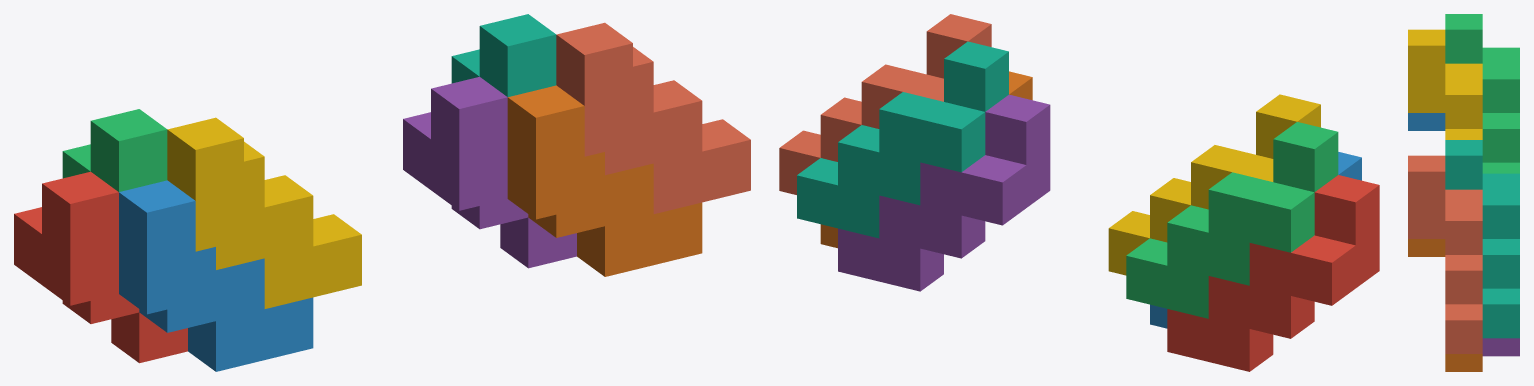
File: tiling.obj
3 renders of one model, left to right at view 1: azimuth 30°, elevation 25°; view 2: azimuth 150°, elevation 25°; view 3: azimuth 270°, elevation 25°, orthographic. The views are drawn at different scales.
Visible parts, largest first — view 1: copy_1_domain_6, copy_1_domain_2, copy_1_domain_8, copy_1_domain_4, copy_1_domain_1, copy_1_domain_5, copy_1_domain_7, copy_1_domain_3; view 2: copy_1_domain_1, copy_1_domain_5, copy_1_domain_3, copy_1_domain_7, copy_1_domain_4, copy_1_domain_8, copy_1_domain_2, copy_1_domain_6; view 3: copy_1_domain_8, copy_1_domain_7, copy_1_domain_3, copy_1_domain_4, copy_1_domain_6, copy_1_domain_5, copy_1_domain_2.
Part boxes in pixels (x1,y1,x2,y2): copy_1_domain_6: (507,85,702,276); copy_1_domain_2: (119,180,313,371); copy_1_domain_8: (556,22,750,213); copy_1_domain_4: (167,117,361,308); copy_1_domain_1: (14,171,187,363); copy_1_domain_5: (403,76,576,268); copy_1_domain_7: (451,14,556,96); copy_1_domain_3: (62,109,167,191); copy_1_domain_1: (1167,175,1379,371); copy_1_domain_5: (838,94,1050,291); copy_1_domain_3: (1126,122,1338,318); copy_1_domain_7: (797,41,1008,238); copy_1_domain_4: (1108,94,1320,275); copy_1_domain_8: (779,14,991,194); copy_1_domain_2: (1150,152,1361,328); copy_1_domain_6: (820,71,1032,248); copy_1_domain_8: (1408,155,1482,353); copy_1_domain_7: (1445,140,1519,338); copy_1_domain_3: (1445,14,1519,173); copy_1_domain_4: (1408,29,1482,139); copy_1_domain_6: (1408,239,1482,371); copy_1_domain_5: (1482,338,1519,356); copy_1_domain_2: (1408,113,1445,130).
Size of the model in its own units: 14 by 5 by 3.
